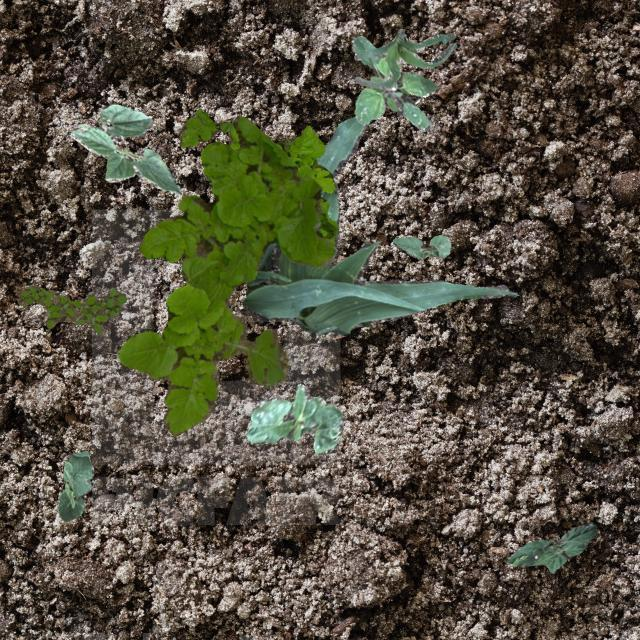crop: (242, 115, 518, 334), (70, 102, 180, 192), (245, 382, 344, 453), (354, 28, 456, 88), (506, 520, 596, 572), (56, 450, 92, 520), (392, 234, 449, 258)
weed: (118, 114, 336, 434), (178, 108, 336, 248), (351, 34, 436, 130), (16, 284, 126, 334)
